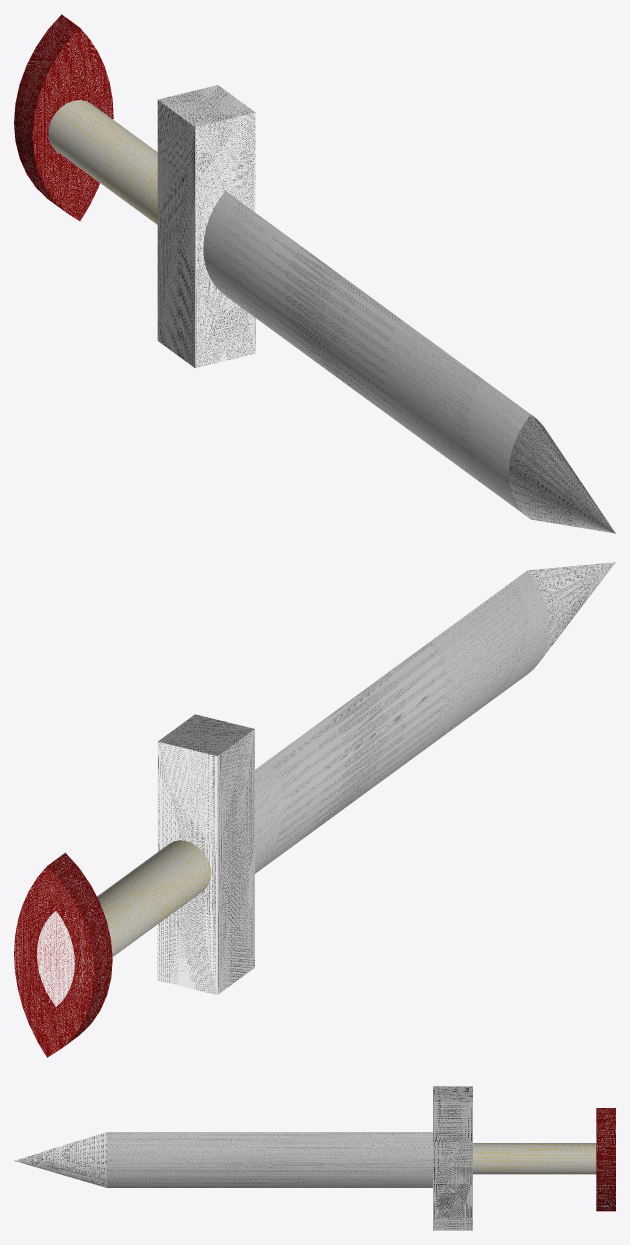
The model's file is model_scale.obj.
3 renders of one model, top to bottom at view 1: azimuth 30°, elevation 25°; view 2: azimuth 150°, elevation 25°; view 3: azimuth 270°, elevation 25°, orthographic. The views are drawn at different scales.
Parts seen in each view (by area): view 1: mesh2_mesh2-geometry, mesh1_mesh1-geometry; view 2: mesh2_mesh2-geometry, mesh1_mesh1-geometry; view 3: mesh2_mesh2-geometry, mesh1_mesh1-geometry.
Boxes of the visible parts, x1,y1,x2,y2 form: mesh2_mesh2-geometry: [157, 85, 615, 533]; mesh1_mesh1-geometry: [14, 14, 157, 224]; mesh2_mesh2-geometry: [157, 562, 615, 994]; mesh1_mesh1-geometry: [14, 840, 211, 1057]; mesh2_mesh2-geometry: [14, 1086, 472, 1230]; mesh1_mesh1-geometry: [473, 1108, 615, 1211].
Size of the model in its own units: 0.0191 by 0.0543 by 0.2304.
